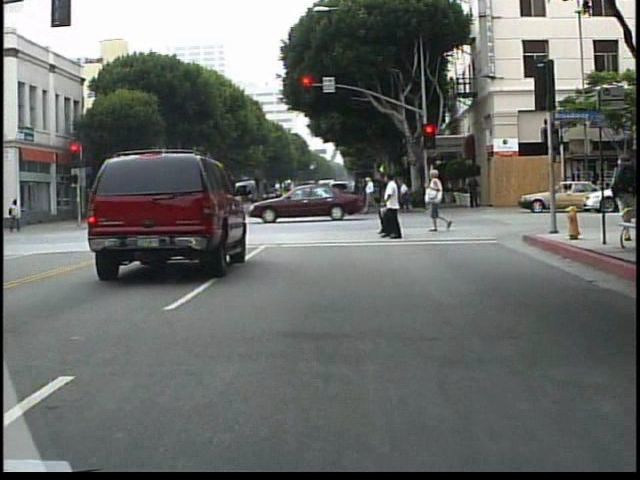person: (378, 173, 414, 244), (426, 170, 459, 235), (375, 174, 395, 238), (467, 168, 486, 211), (145, 187, 162, 232), (349, 178, 369, 211), (362, 173, 384, 203), (125, 190, 141, 231), (397, 175, 414, 212), (8, 198, 24, 233), (2, 200, 16, 235), (279, 176, 297, 196)
